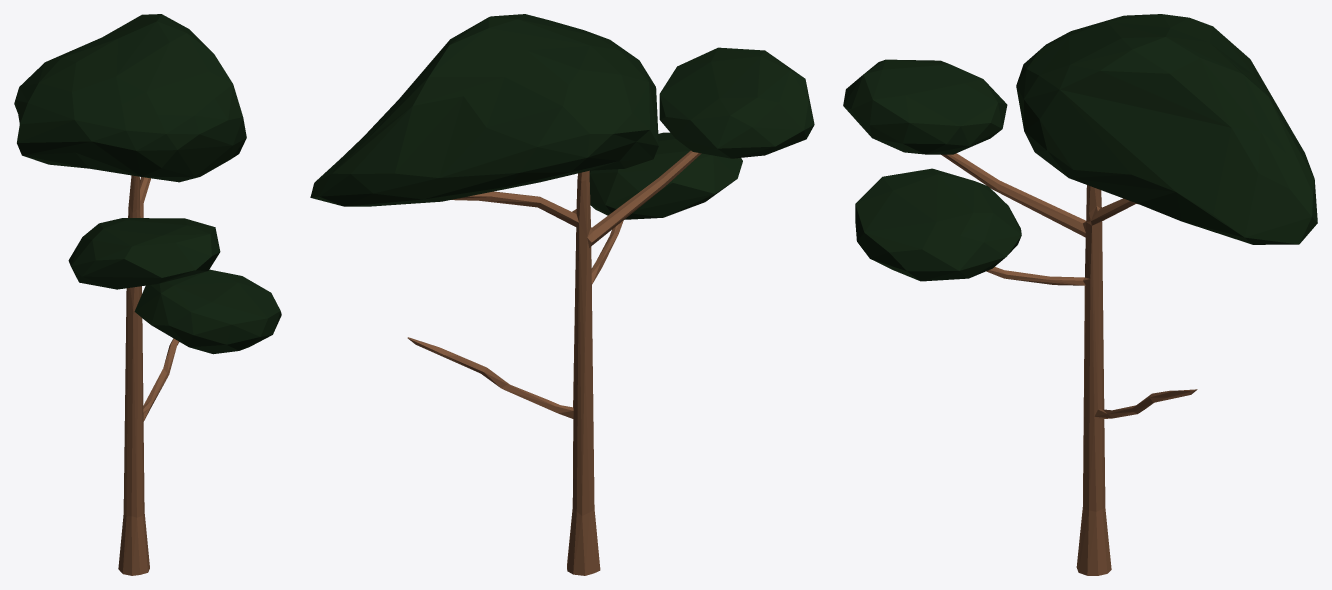
Rendered from SM_tree_small_03.fbx.
3 renders of one model, left to right at view 1: azimuth 30°, elevation 25°; view 2: azimuth 150°, elevation 25°; view 3: azimuth 270°, elevation 25°, orthographic. The views are drawn at different scales.
Visible parts, largest first — view 1: Object012; view 2: Object012; view 3: Object012.
Boxes of the visible parts, x1,y1,x2,y2 form: Object012: (14,14,281,575); Object012: (310,14,814,575); Object012: (843,14,1317,575).
Bounding box in the file's own units: 108 × 137 × 179.
